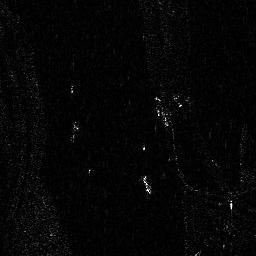ship: (140, 173, 152, 195)
